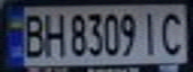0: (103, 9, 121, 57)
3: (84, 9, 106, 57)
8: (66, 9, 87, 57)
9: (118, 9, 139, 57)
B: (18, 10, 48, 58)
C: (157, 8, 187, 56)
H: (39, 9, 69, 58)
I: (136, 8, 163, 57)
